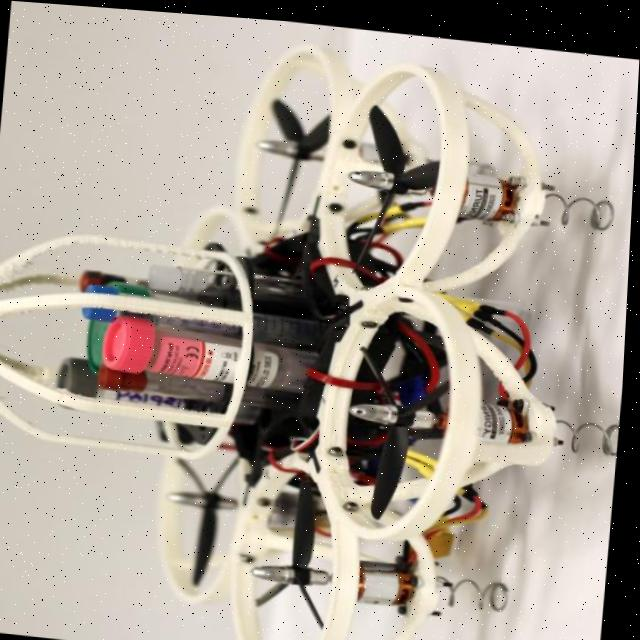drones: (0, 5, 640, 640)
